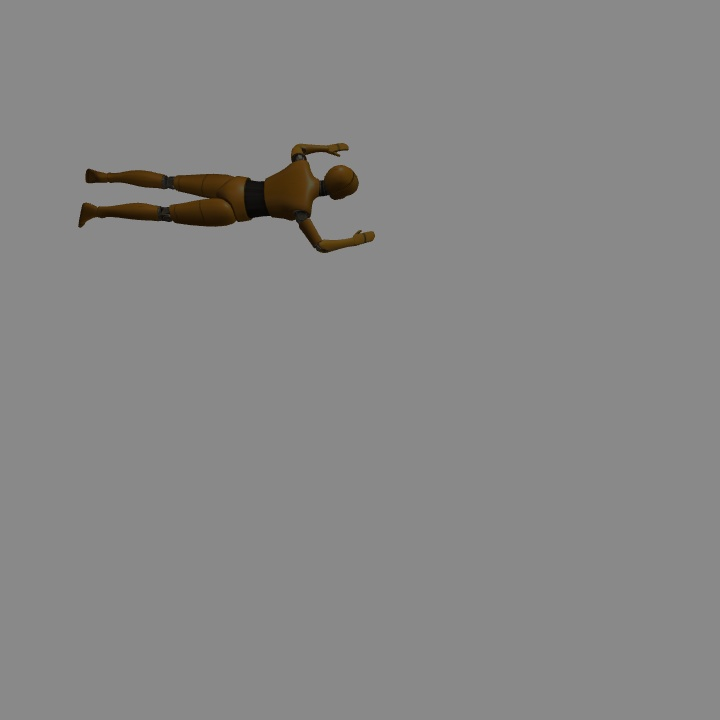victim: (79, 163, 379, 247)
